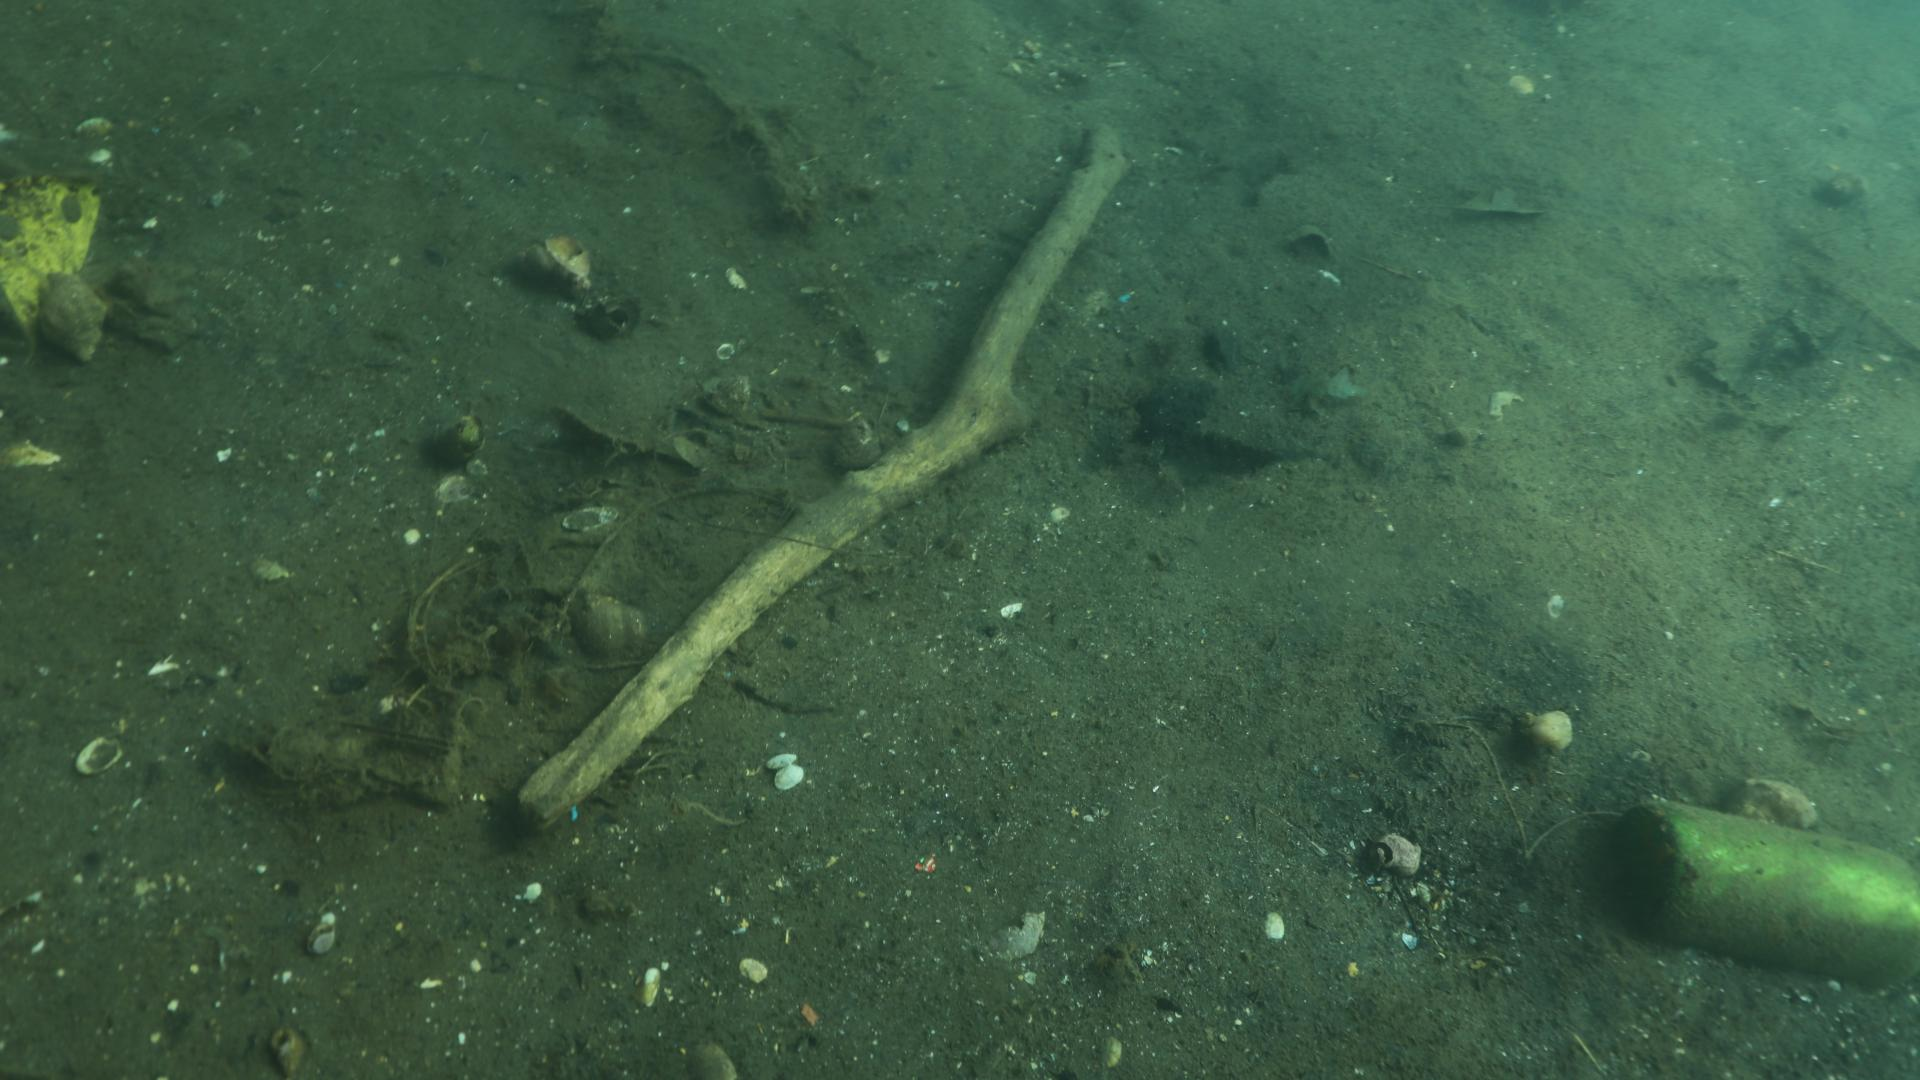wood: (516, 123, 1129, 833)
